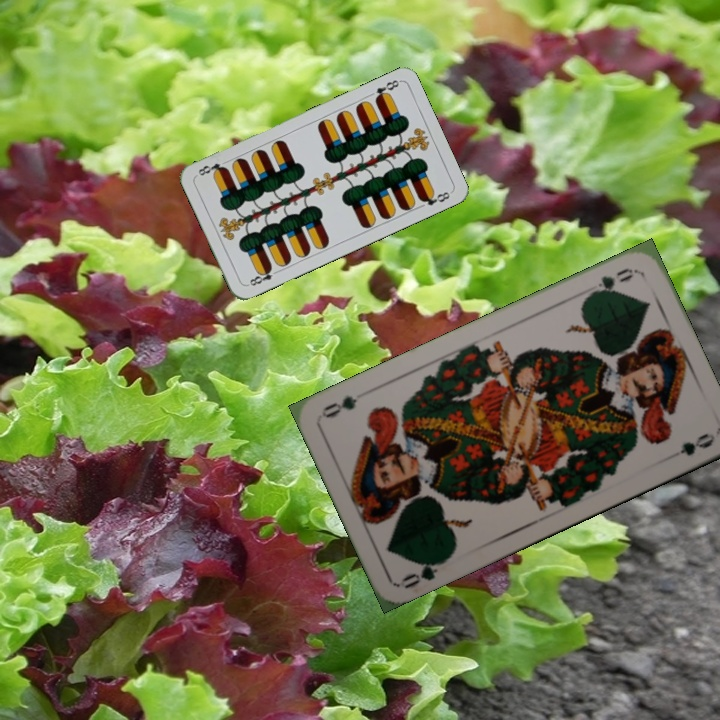E8: (243, 263, 282, 288), (371, 76, 402, 104)
GO: (397, 554, 451, 592), (584, 263, 639, 300)
